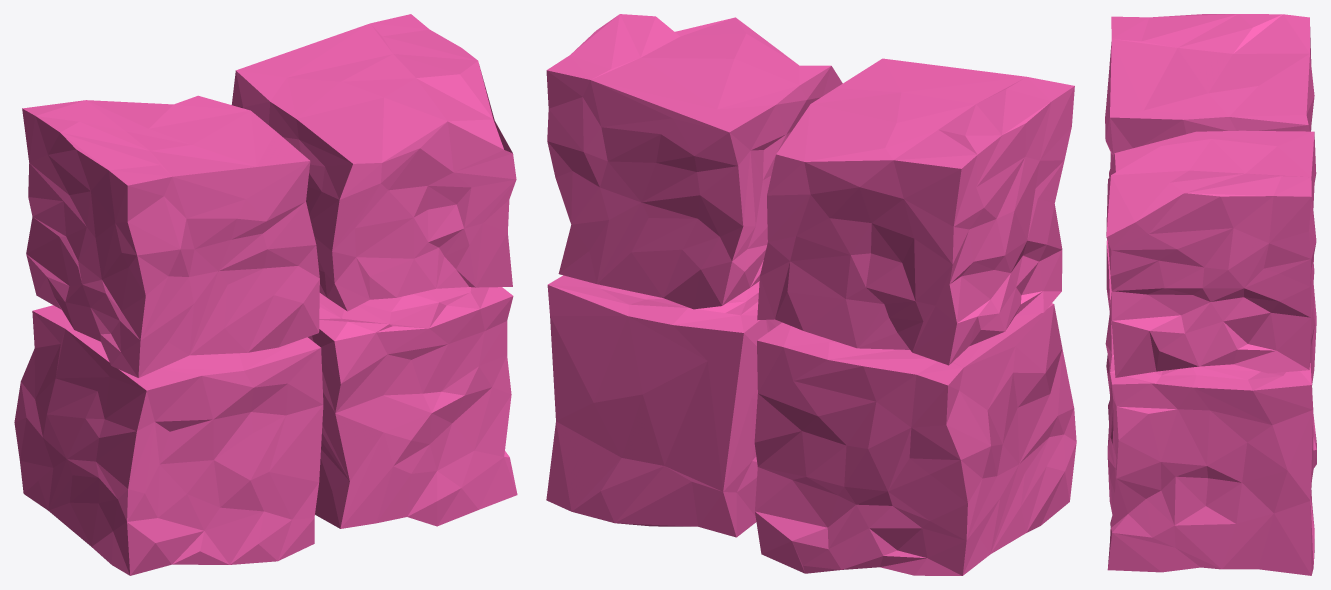
The model's file is q_tetris.fbx.
3 renders of one model, left to right at view 1: azimuth 30°, elevation 25°; view 2: azimuth 150°, elevation 25°; view 3: azimuth 270°, elevation 25°, orthographic. The views are drawn at different scales.
Visible parts, largest first — view 1: Cubo; view 2: Cubo; view 3: Cubo.
Boxes of the visible parts, x1=… form: Cubo: x1=14, y1=14, x2=517, y2=575; Cubo: x1=546, y1=14, x2=1076, y2=575; Cubo: x1=1105, y1=14, x2=1316, y2=575.
Bounding box in the file's own units: 436 × 437 × 213.
